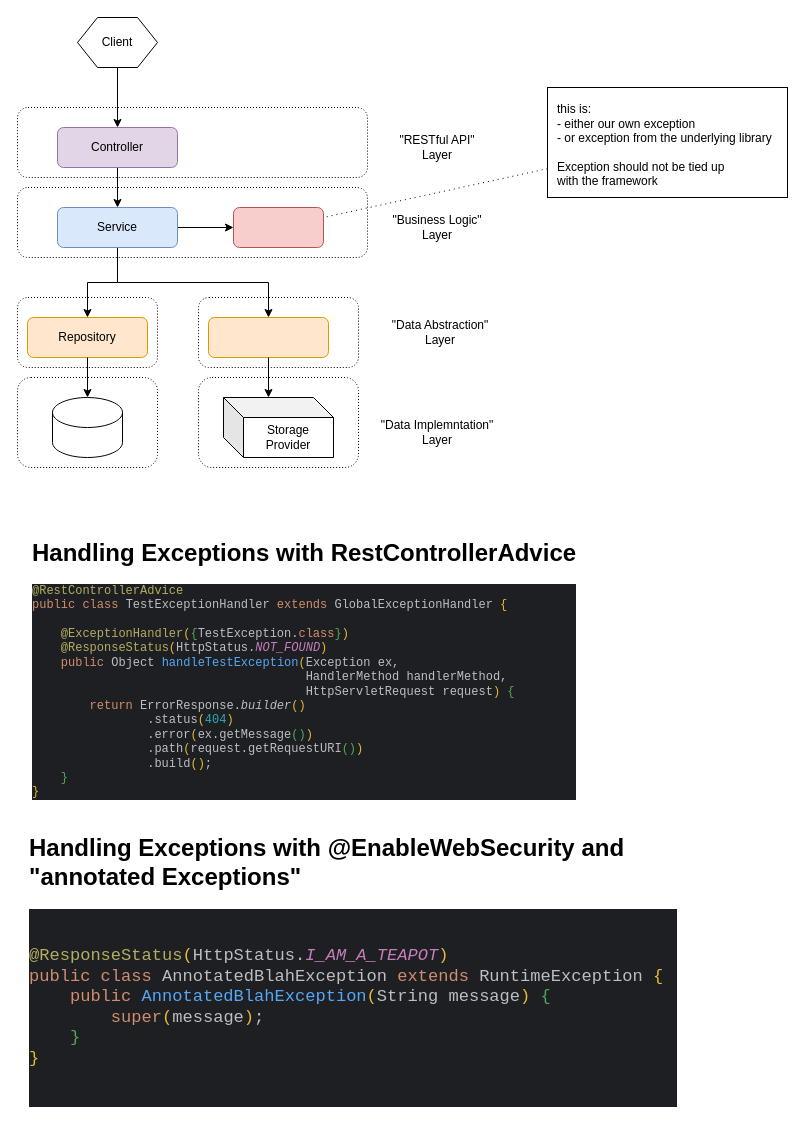
Image size: 805x1136. Some labels were removed from this diagram. Each missing label, with the box of its shape:
(file) Storage: (208, 316, 328, 358)
DB: (52, 396, 122, 458)
Exception: (232, 206, 324, 248)
